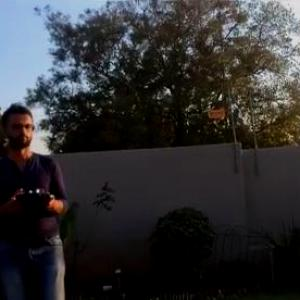follow: (1, 101, 74, 299)
